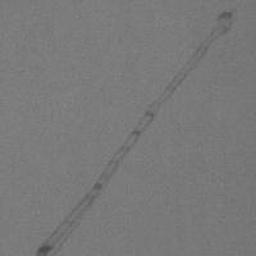Water spot: (31, 8, 236, 256)
